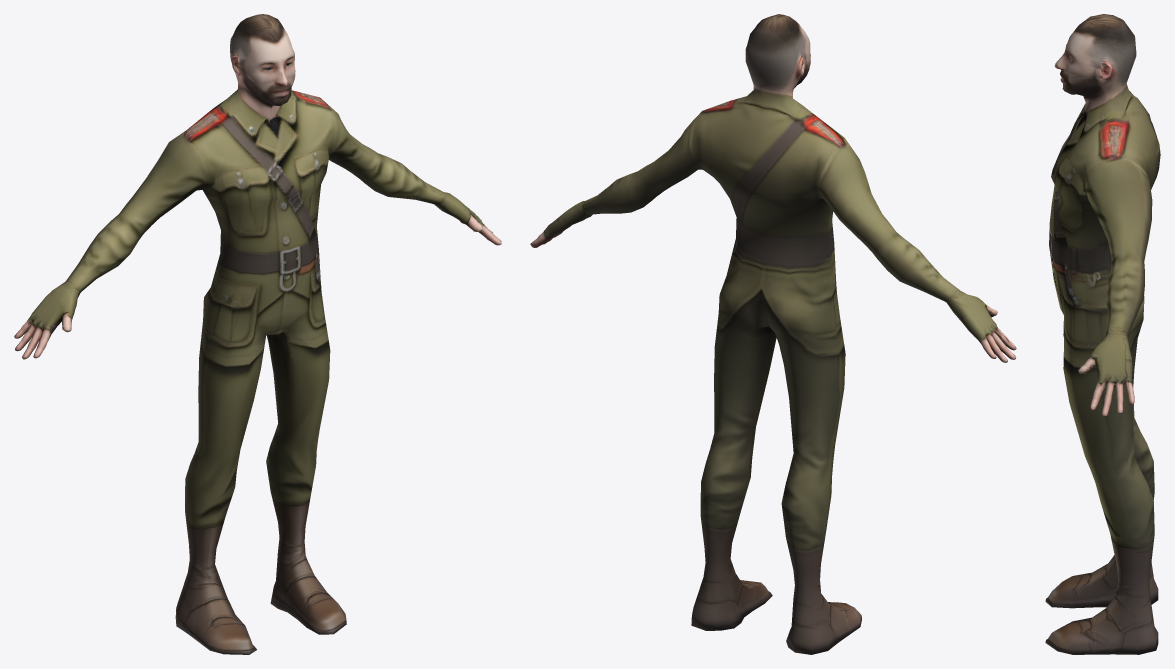
File: soldier_2.glb
The picture shows the model from 3 angles, left to right: view 1: azimuth 30°, elevation 25°; view 2: azimuth 150°, elevation 25°; view 3: azimuth 270°, elevation 25°; orthographic projection.
Visible parts, largest first — view 1: Mesh_0.001; view 2: Mesh_0.001; view 3: Mesh_0.001.
Part boxes in pixels (x1,y1,x2,y2): Mesh_0.001: (14, 14, 501, 654); Mesh_0.001: (530, 14, 1016, 654); Mesh_0.001: (1045, 14, 1160, 654).
Size of the model in its own units: 1.65 by 2 by 0.345.
Materials: 1 (1 with a texture image).
